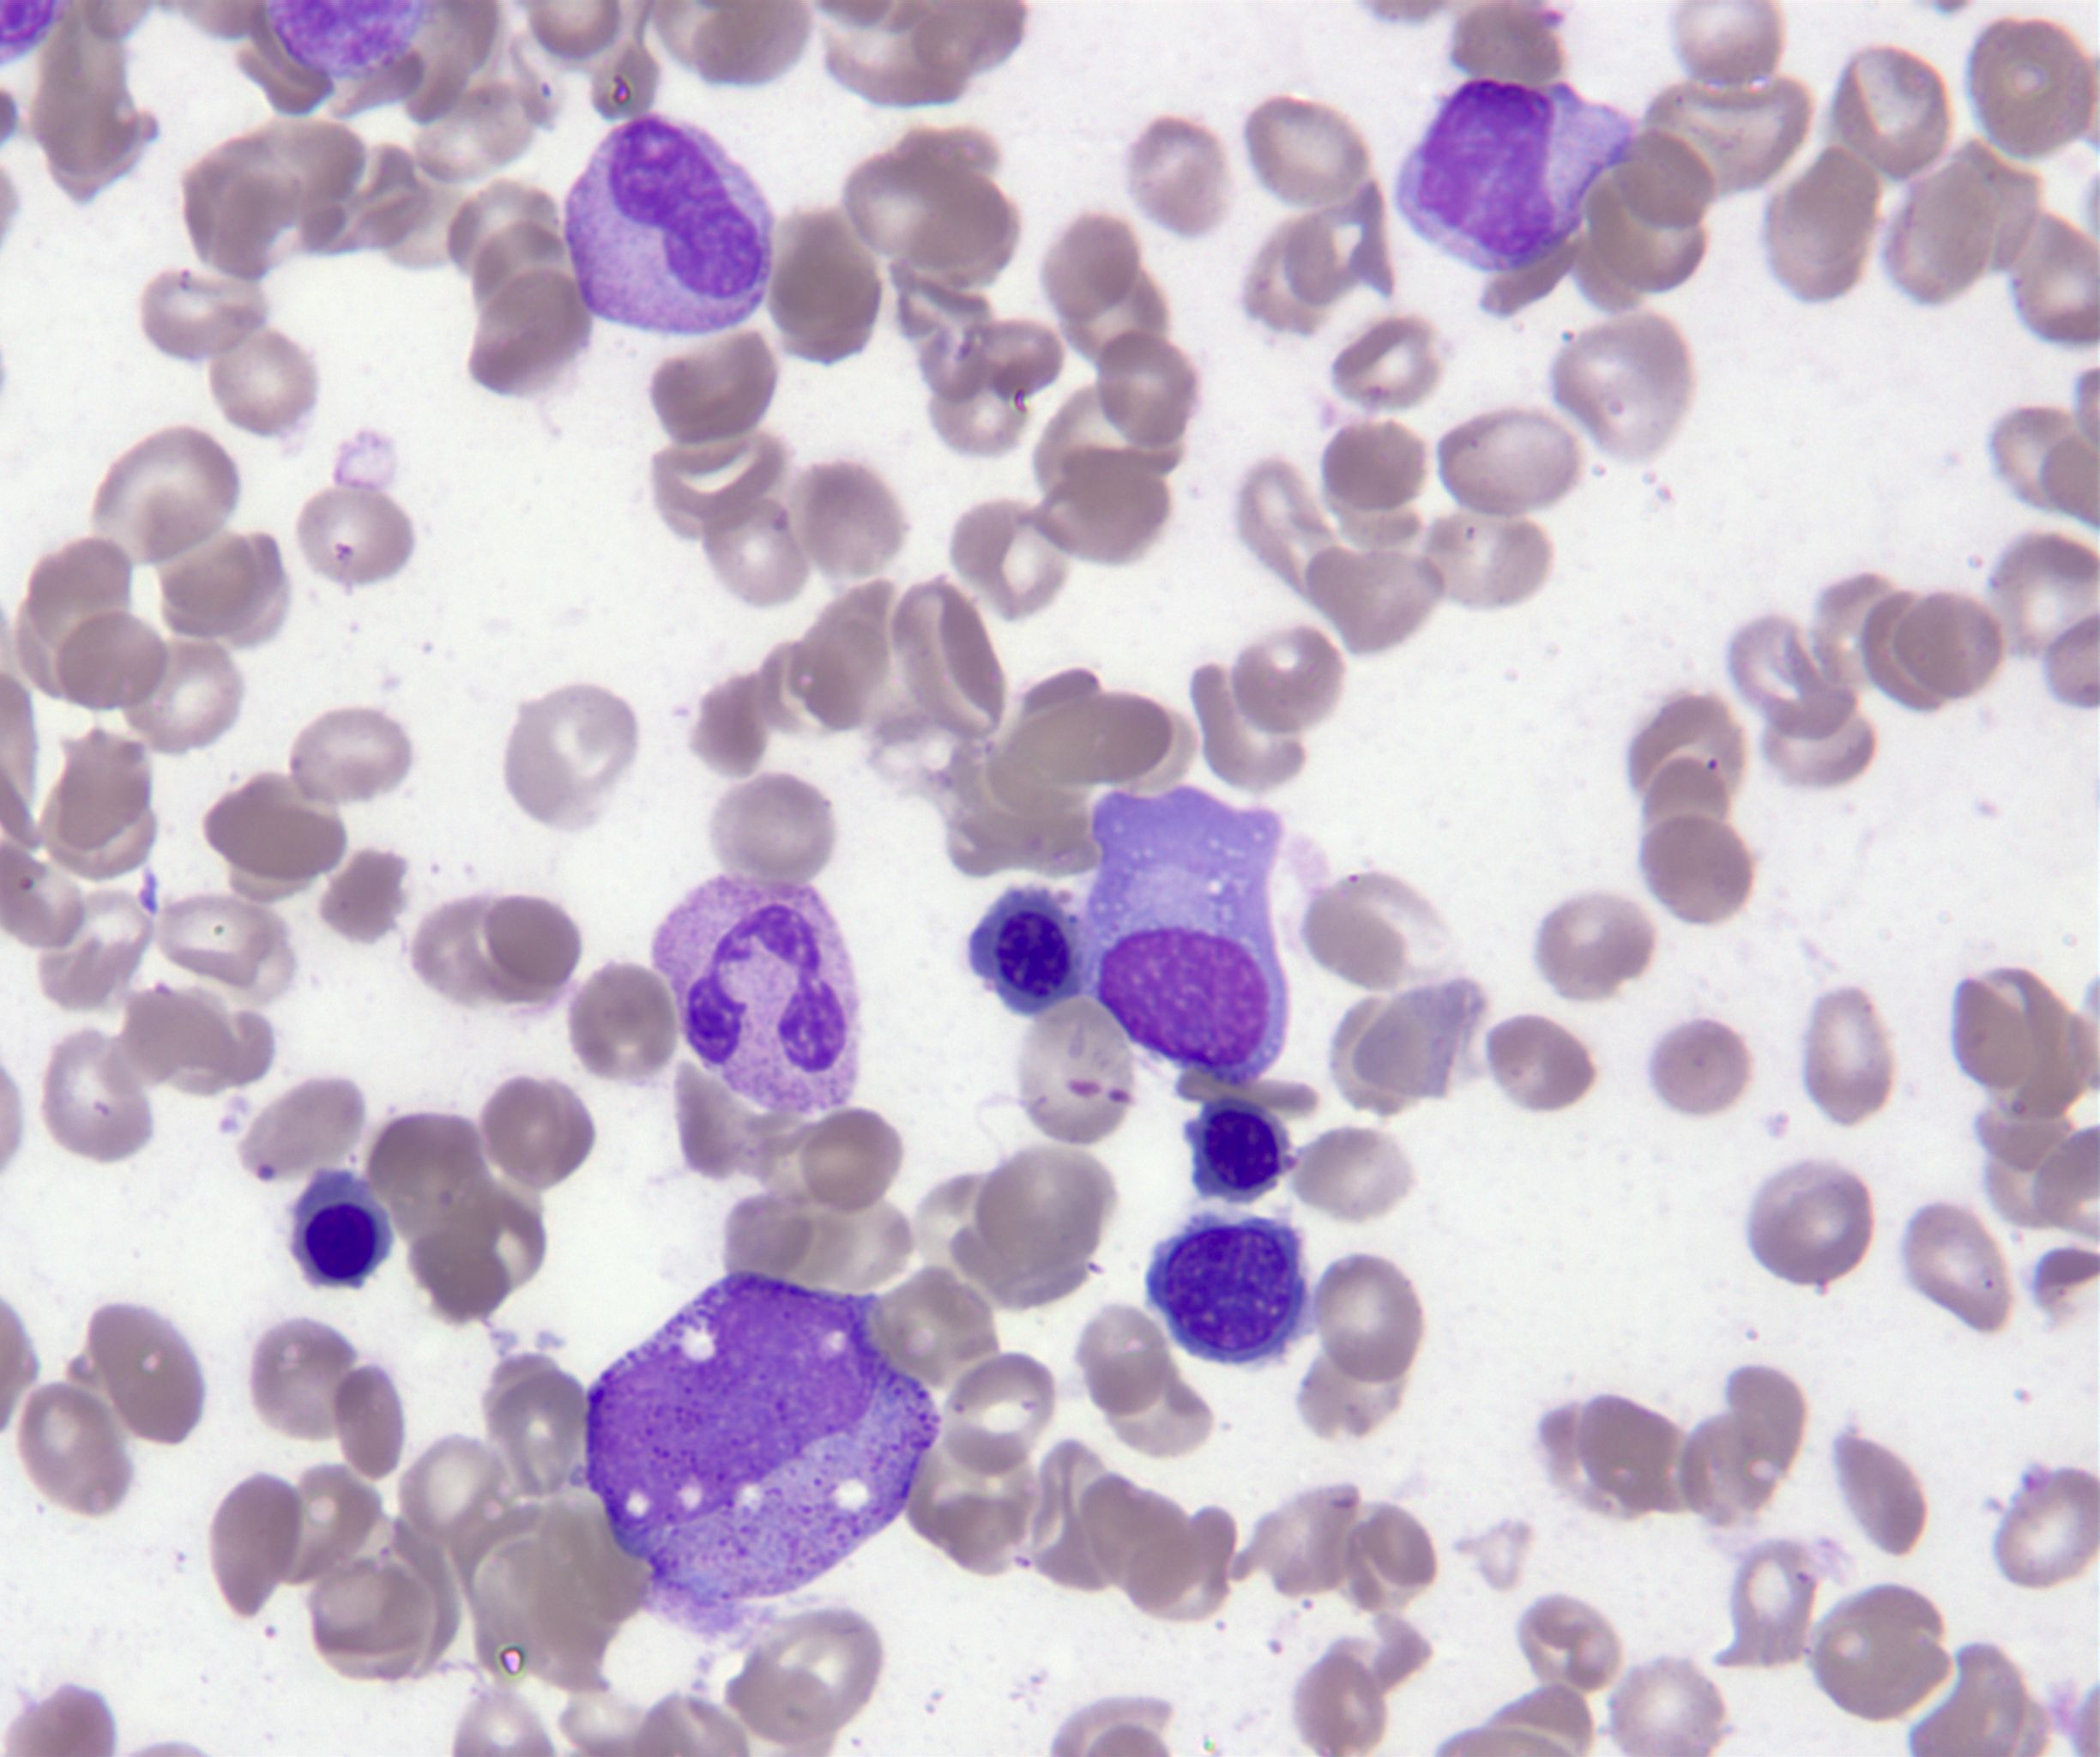2: (583, 1270, 944, 1642)
23: (1148, 1213, 1310, 1359)
24: (966, 881, 1094, 1015), (291, 1166, 392, 1289), (1183, 1097, 1298, 1204)
3: (1390, 79, 1640, 272)
4: (565, 115, 773, 337)
6: (652, 874, 860, 1113)
x: (1078, 789, 1294, 1087)
